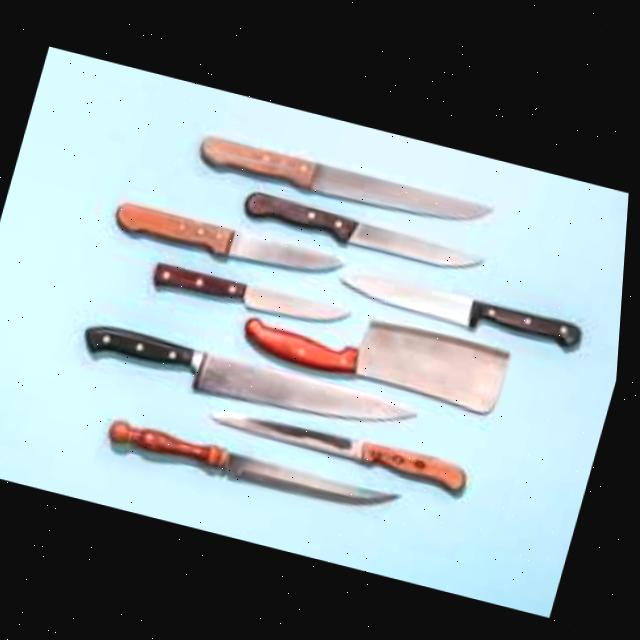Knife: (79, 317, 431, 440), (242, 283, 520, 412), (195, 129, 503, 231), (107, 415, 412, 516), (212, 398, 482, 492), (335, 260, 591, 351), (241, 185, 493, 273), (112, 198, 352, 283), (154, 259, 358, 331)
